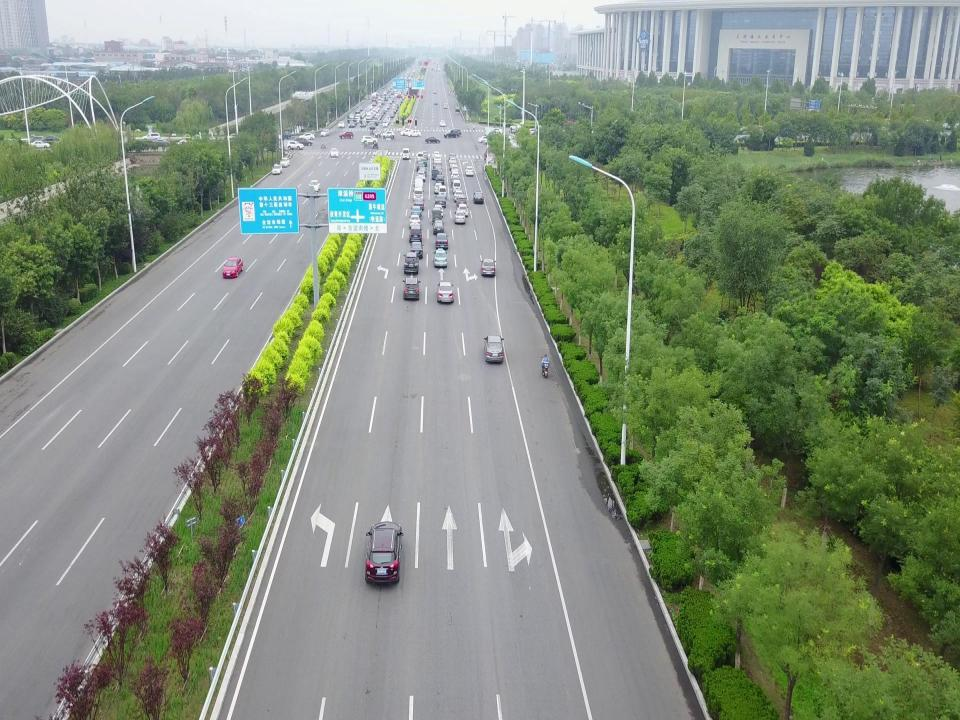car: (366, 513, 404, 584), (483, 332, 505, 364), (220, 251, 244, 278), (400, 251, 420, 276), (401, 274, 421, 298), (435, 277, 453, 303), (479, 256, 499, 278), (432, 246, 448, 268), (406, 225, 422, 243), (434, 231, 449, 250), (149, 138, 171, 150), (410, 240, 424, 258), (431, 218, 445, 234), (286, 140, 304, 152), (408, 211, 422, 226), (411, 194, 425, 209), (293, 136, 313, 146), (453, 209, 466, 224), (175, 138, 191, 150), (455, 204, 469, 217), (472, 190, 484, 205), (431, 207, 443, 222), (432, 202, 444, 217), (410, 204, 422, 219), (308, 177, 320, 192), (434, 194, 446, 208), (298, 132, 316, 141), (425, 135, 441, 145), (443, 128, 459, 138), (141, 133, 161, 141), (206, 138, 222, 148), (271, 161, 283, 174), (279, 156, 292, 168), (413, 186, 424, 200), (482, 138, 497, 148), (455, 195, 467, 207), (361, 134, 377, 143), (437, 185, 447, 199), (448, 126, 462, 136), (526, 126, 540, 136), (190, 134, 204, 144), (432, 180, 442, 193), (434, 172, 444, 185), (401, 127, 414, 137), (407, 129, 421, 138), (381, 130, 395, 139), (278, 130, 292, 139), (454, 189, 464, 201), (417, 165, 427, 177), (401, 148, 411, 160), (339, 132, 353, 140), (450, 170, 460, 181), (416, 169, 426, 180), (484, 129, 496, 138), (464, 165, 474, 175), (415, 150, 425, 160), (374, 131, 388, 138), (490, 127, 502, 135), (478, 135, 490, 143), (450, 177, 460, 186), (414, 160, 424, 169), (330, 148, 340, 157), (320, 128, 330, 137), (434, 154, 442, 165), (510, 123, 522, 130), (449, 164, 458, 173), (448, 152, 457, 161), (420, 158, 428, 168), (434, 165, 442, 174), (433, 161, 441, 170), (415, 156, 423, 165), (368, 120, 376, 129), (337, 120, 344, 130), (449, 161, 457, 169), (421, 150, 429, 158), (438, 119, 446, 127), (358, 119, 366, 127), (487, 130, 496, 137), (449, 158, 456, 166), (370, 117, 378, 124), (433, 150, 440, 157), (454, 105, 460, 113), (348, 121, 356, 127), (352, 118, 358, 125), (354, 116, 360, 123), (362, 118, 368, 125), (373, 106, 379, 113), (373, 114, 379, 121), (385, 112, 391, 119), (388, 111, 394, 118), (348, 114, 354, 120), (355, 108, 361, 114), (355, 113, 361, 119), (358, 113, 364, 119), (360, 110, 366, 116), (365, 106, 371, 112), (371, 108, 377, 114), (376, 112, 382, 118), (381, 121, 387, 127), (384, 117, 390, 123), (389, 109, 395, 115), (362, 108, 367, 115), (364, 115, 369, 122), (367, 112, 372, 119), (366, 105, 372, 110), (369, 111, 374, 117), (371, 100, 376, 106), (379, 109, 385, 114), (381, 108, 387, 113), (382, 106, 388, 111), (390, 97, 396, 102), (383, 119, 389, 124), (385, 116, 391, 121), (443, 102, 447, 109), (360, 111, 364, 118), (393, 105, 397, 112), (394, 103, 398, 110), (397, 99, 401, 106), (397, 89, 401, 96), (375, 105, 380, 110), (391, 108, 396, 113), (434, 99, 438, 105), (376, 113, 380, 119), (378, 111, 382, 117), (385, 103, 389, 109), (386, 102, 390, 108), (388, 98, 392, 104), (396, 101, 400, 107), (398, 97, 402, 103), (364, 108, 368, 113), (378, 95, 382, 100), (386, 87, 390, 92), (389, 84, 393, 89), (379, 111, 383, 116), (400, 95, 404, 100), (433, 90, 437, 94), (358, 105, 362, 109), (383, 91, 387, 95), (385, 89, 389, 93), (386, 115, 390, 119), (383, 97, 388, 100)
van: (414, 176, 424, 192), (452, 179, 461, 195), (430, 168, 440, 181), (376, 101, 382, 107), (380, 98, 384, 105), (394, 91, 398, 97)
